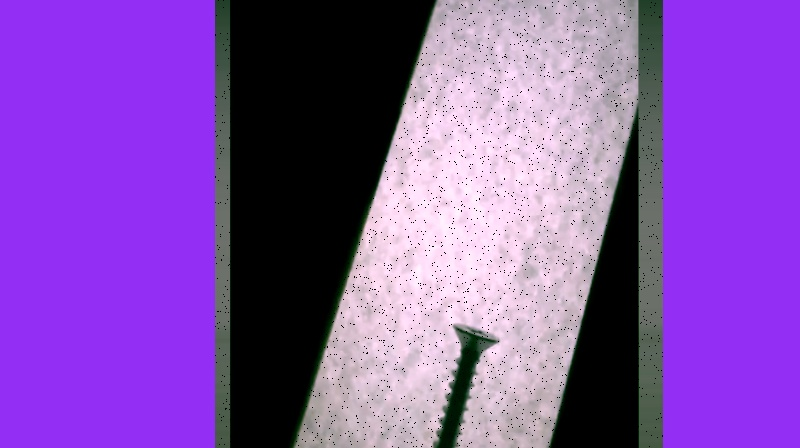S001: (423, 319, 502, 447)
